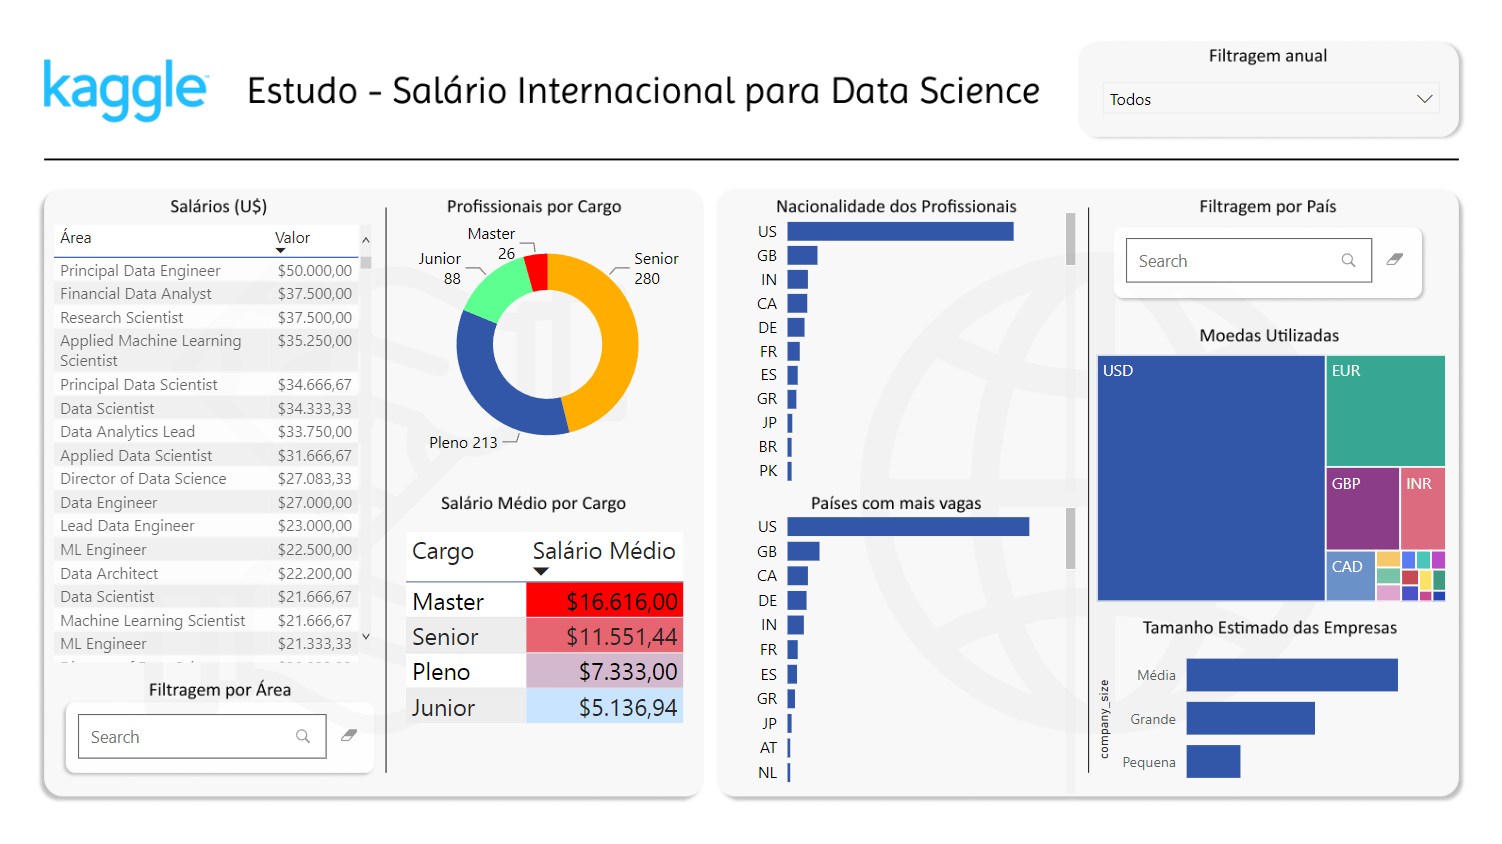

The page's visual inventory and layout, read from the dashboard file:
{"tool":"powerbi","page":{"name":"Página 1","canvas":[1280,720],"ordinal":0},"visuals":[{"type":"tableEx","fields":{"Values":["ds_salaries.job_title","ds_salaries.Salário mensal"]},"box":[42.4,188.1,280.1,380.5],"z":0},{"type":"textFilter25A4896A83E0487089E2B90C9AE57C8A","fields":{"field":["ds_salaries.job_title"]},"box":[63.6,602.6,258.9,49.5],"z":1},{"type":"donutChart","fields":{"Y":["CountNonNull(ds_salaries.experience_level)"],"Category":["ds_salaries.experience_level"]},"box":[340.9,169.7,251.8,250.4],"z":2},{"type":"tableEx","fields":{"Values":["ds_salaries.experience_level","Avg(ds_salaries.Salário mensal)"]},"box":[340.9,448.4,251.8,203.7],"z":3},{"type":"slicer","fields":{"Values":["ds_salaries.work_year"]},"box":[927.9,62.2,305.5,46.7],"z":4},{"type":"clusteredBarChart","fields":{"Category":["ds_salaries.company_location"],"Y":["CountNonNull(ds_salaries.company_location)"]},"box":[611.1,420.1,308.4,273],"z":5},{"type":"clusteredBarChart","fields":{"Category":["ds_salaries.employee_residence"],"Y":["CountNonNull(ds_salaries.employee_residence)"]},"box":[611.1,169.7,308.4,267.3],"z":6},{"type":"textFilter25A4896A83E0487089E2B90C9AE57C8A","fields":{"field":["ds_salaries.employee_residence"]},"box":[952,199.4,257.4,48.1],"z":7},{"type":"barChart","fields":{"Y":["CountNonNull(ds_salaries.company_size)"],"Category":["ds_salaries.company_size"]},"box":[927.9,533.3,305.5,149.9],"z":8},{"type":"treemap","fields":{"Values":["CountNonNull(ds_salaries.salary_currency)"],"Group":["ds_salaries.salary_currency"]},"box":[927.9,298.5,305.5,219.2],"z":9}]}

Visuals, with their boxes in screenshot pixels (x1, y1, x2, y2), scaled from the page's 1280x720 canvas onto the 1502x844 screenshot:
tableEx - ds_salaries.job_title x ds_salaries.Salário mensal: <bbox>50, 220, 378, 667</bbox>
textFilter25A4896A83E0487089E2B90C9AE57C8A - ds_salaries.job_title: <bbox>75, 706, 378, 764</bbox>
donutChart - CountNonNull(ds_salaries.experience_level) x ds_salaries.experience_level: <bbox>400, 199, 695, 492</bbox>
tableEx - ds_salaries.experience_level x Avg(ds_salaries.Salário mensal): <bbox>400, 526, 695, 764</bbox>
slicer - ds_salaries.work_year: <bbox>1089, 73, 1447, 128</bbox>
clusteredBarChart - ds_salaries.company_location x CountNonNull(ds_salaries.company_location): <bbox>717, 492, 1079, 812</bbox>
clusteredBarChart - ds_salaries.employee_residence x CountNonNull(ds_salaries.employee_residence): <bbox>717, 199, 1079, 512</bbox>
textFilter25A4896A83E0487089E2B90C9AE57C8A - ds_salaries.employee_residence: <bbox>1117, 234, 1419, 290</bbox>
barChart - CountNonNull(ds_salaries.company_size) x ds_salaries.company_size: <bbox>1089, 625, 1447, 801</bbox>
treemap - CountNonNull(ds_salaries.salary_currency) x ds_salaries.salary_currency: <bbox>1089, 350, 1447, 607</bbox>
